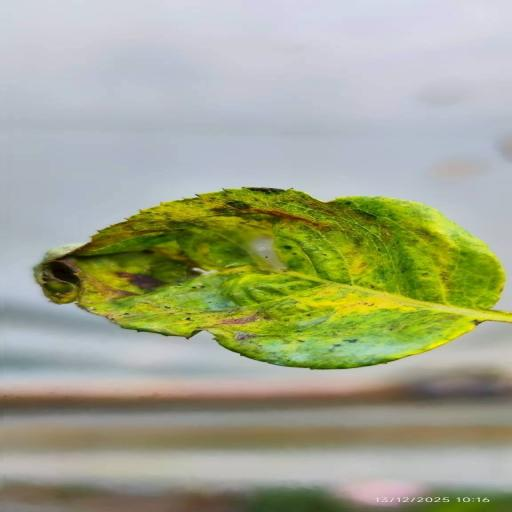thrip: (36, 187, 511, 369)
